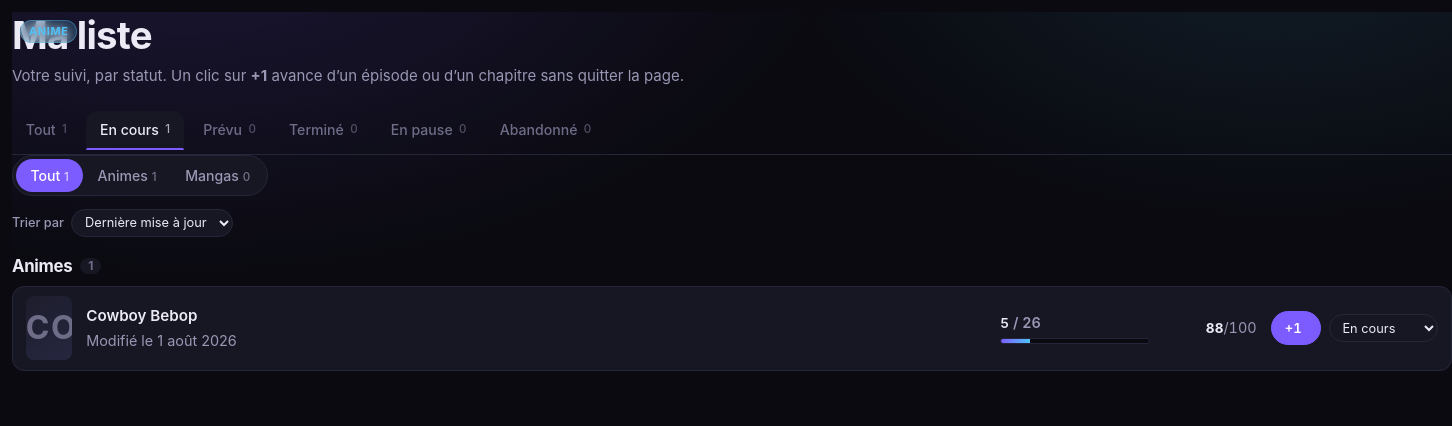
ListPage — le bouton « +1 » › remet la ligne dans son état d’origine si le serveur refuse
Click the button "+1": {"x": 1296, "y": 328} [1271,311,1321,345]
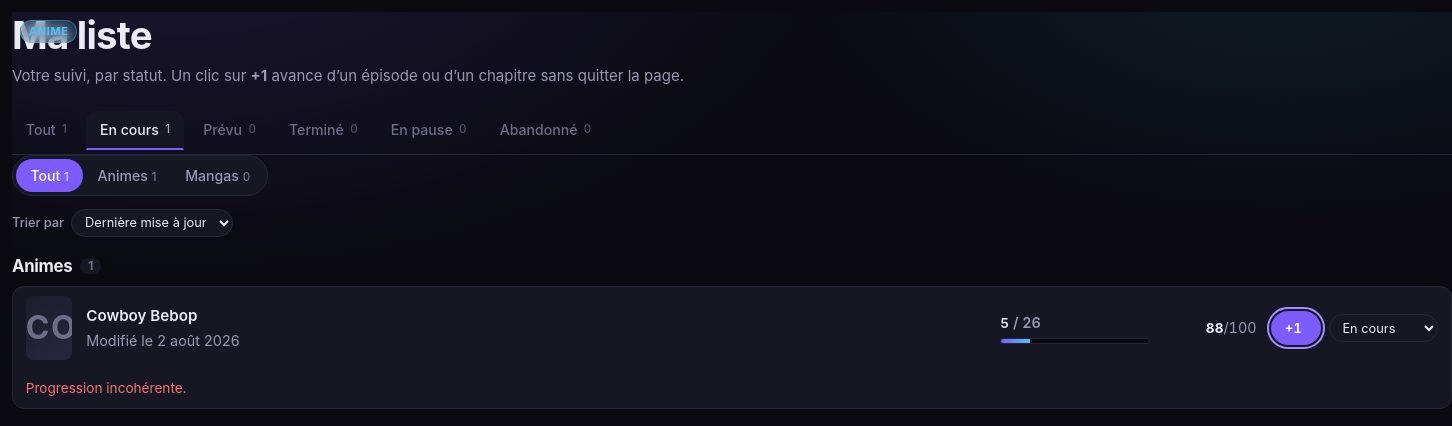
Expected: the text "5" is shown, [1000,315,1009,331]
Expected: the message reads "Progression incohérente.", [26,380,187,396]
